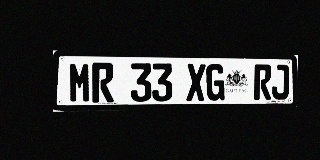3: (131, 63, 151, 102), (152, 63, 172, 102)
G: (206, 64, 225, 101)
J: (272, 65, 289, 100)
M: (69, 62, 91, 103)
R: (92, 63, 114, 103), (254, 64, 272, 100)
X: (186, 64, 206, 101)
